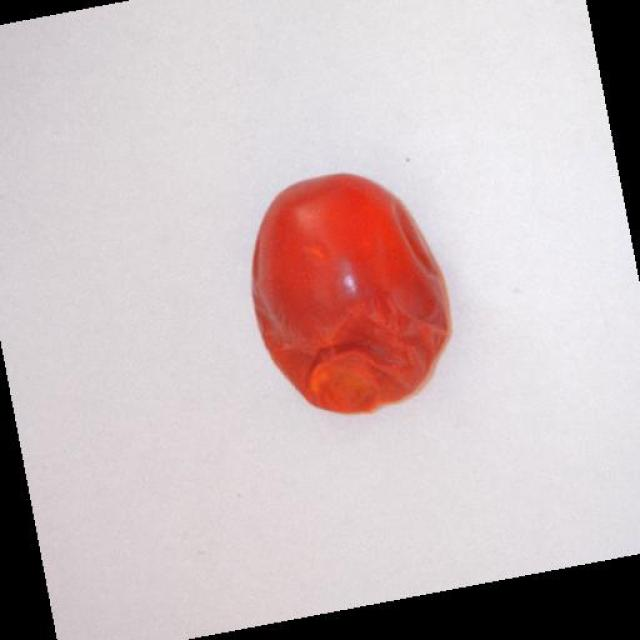Stale_tomato: (211, 158, 466, 418)
